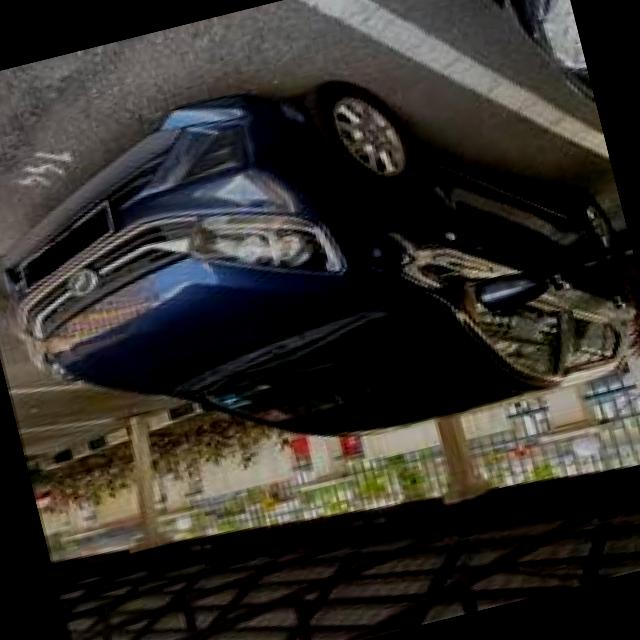PeroduaAxia: (0, 10, 640, 518)
